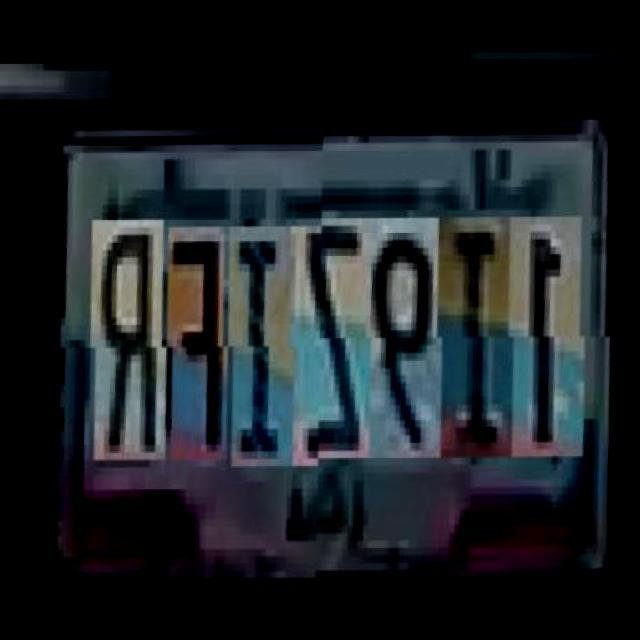1: (499, 224, 591, 464)
9: (357, 225, 448, 464)
f: (158, 226, 233, 458)
i: (429, 225, 520, 464), (219, 226, 299, 465)
r: (81, 219, 173, 459)
z: (280, 226, 377, 465)
